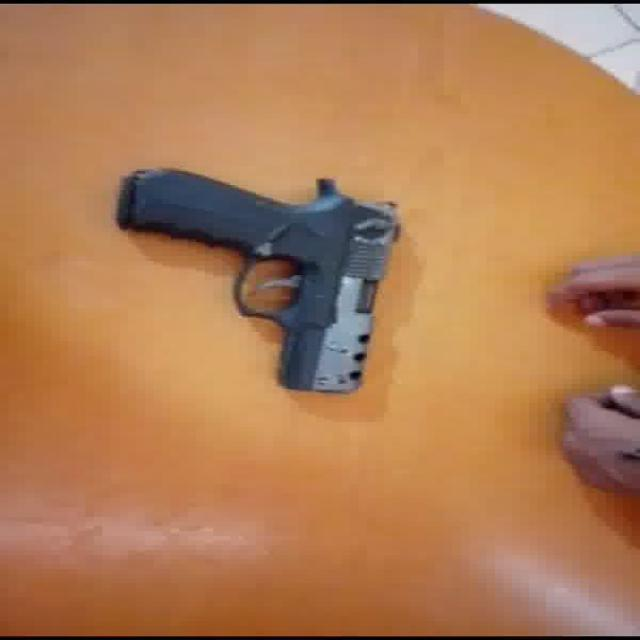weapon: (115, 166, 402, 395)
